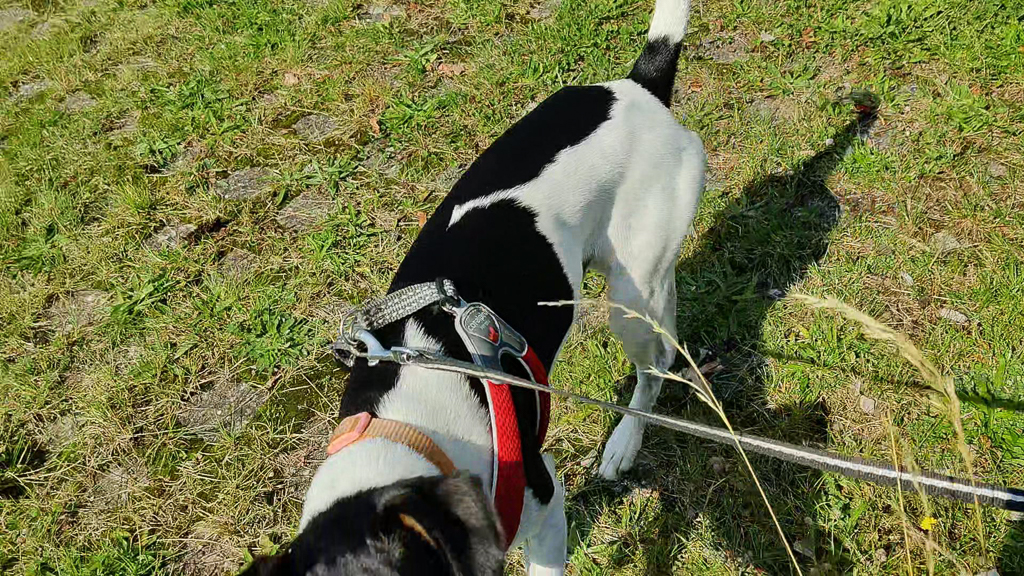Dog: (229, 0, 719, 576)
